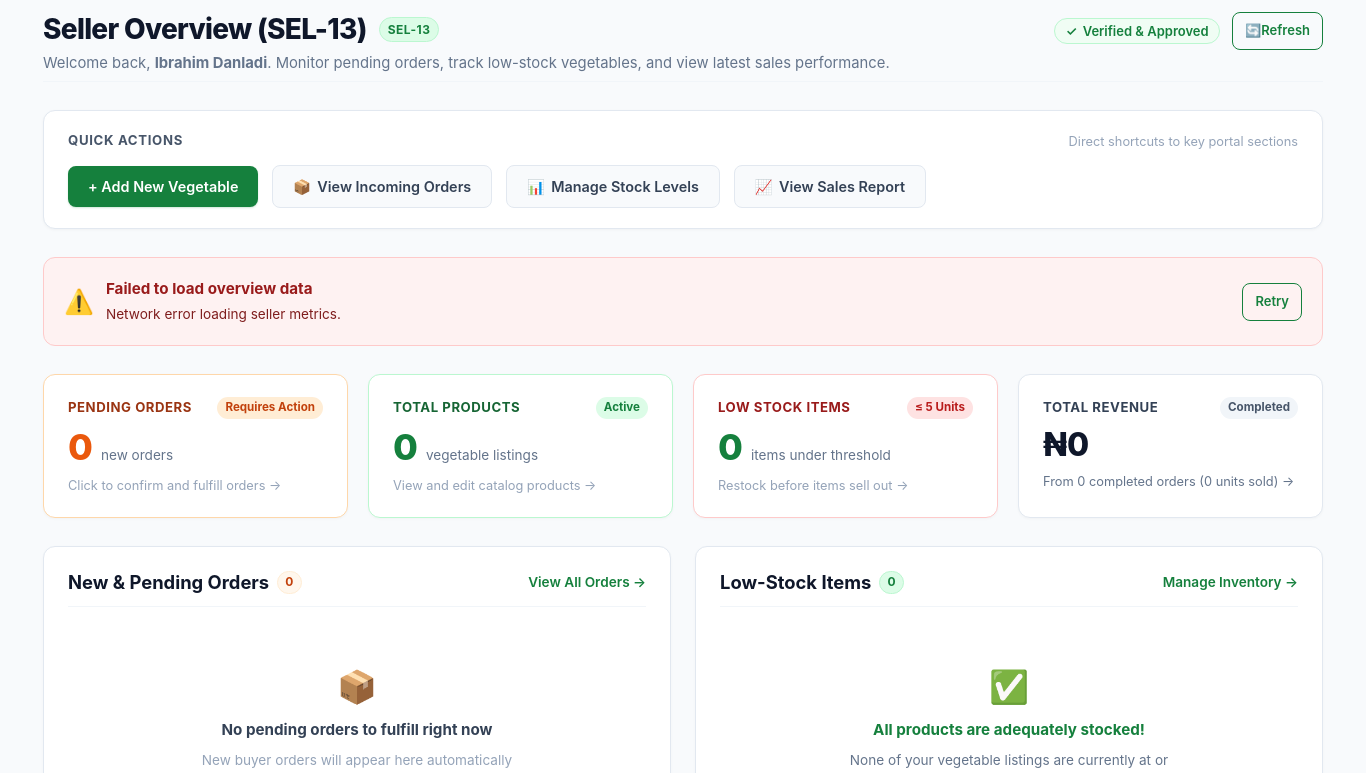
Test: FE-081 / SEL-13: Seller Dashboard Overview Page › 6. Error Handling & Manual Refresh (ERR-01) › displays error notice with retry button when API fails and successfully retries
Expected: the message "⚠️ Failed to load overview data Network error loading seller metrics. Retry" is shown, x1=43 y1=257 x2=1323 y2=346
Expected: the message with test id "overview-error-state" shows "Network error loading seller metrics", x1=106 y1=306 x2=341 y2=322
# Click retry
Click the button with test id "overview-retry-btn" at (1272, 302), box x1=1242 y1=283 x2=1302 y2=321
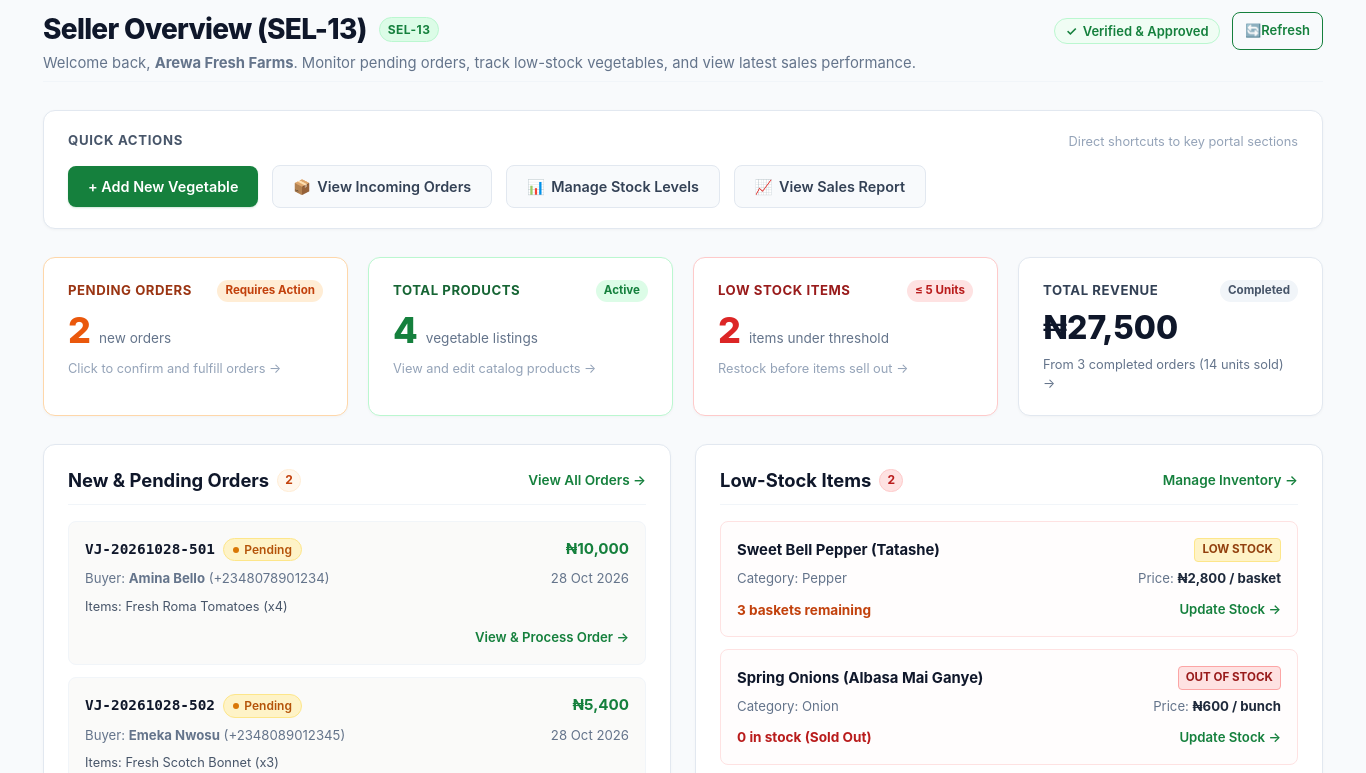
Expected: the element with test id "overview-kpi-grid" is shown, x1=43 y1=257 x2=1323 y2=416
Now the message with test id "overview-error-state" is gone
